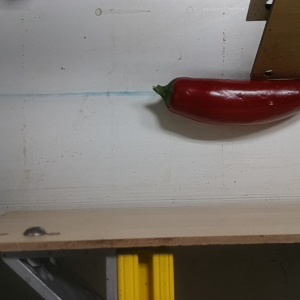Cut Point: (158, 75, 190, 114)
